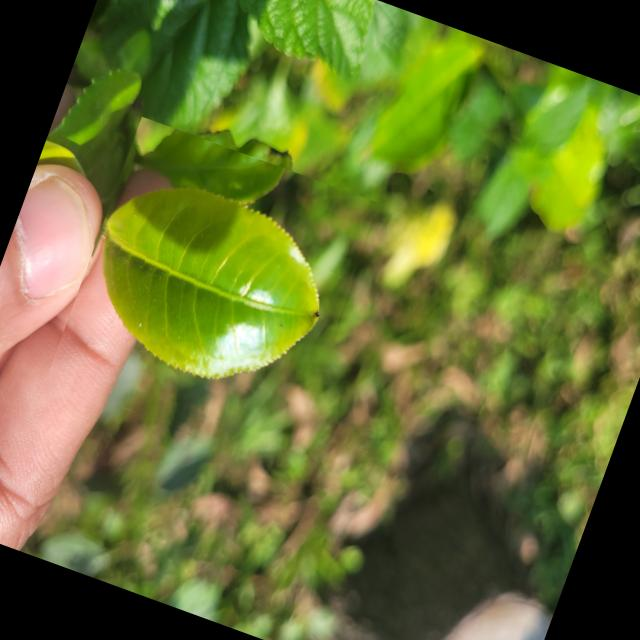Catagory A(1-2 days): (44, 116, 384, 472)
